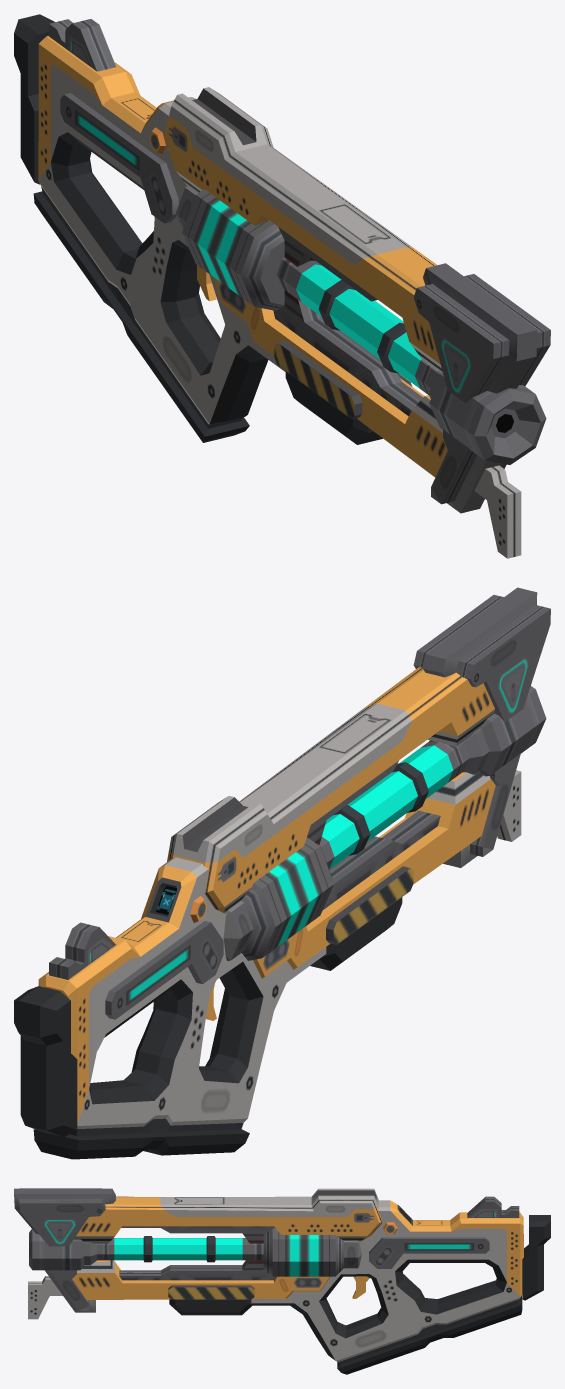
The model's file is SM_Wep_Rifle_01.fbx.
3 views of the same model, one above another, from view 1: azimuth 30°, elevation 25°; view 2: azimuth 150°, elevation 25°; view 3: azimuth 270°, elevation 25° (orthographic). The views are drawn at different scales.
Parts seen in each view (by area): view 1: SM_Wep_Rifle_01; view 2: SM_Wep_Rifle_01; view 3: SM_Wep_Rifle_01.
Part boxes in pixels (left/top/right/bottom): SM_Wep_Rifle_01: left=14, top=14, right=550, bottom=558; SM_Wep_Rifle_01: left=14, top=587, right=550, bottom=1159; SM_Wep_Rifle_01: left=14, top=1188, right=550, bottom=1374.
Bounding box in the file's own units: 10.04 × 34.11 × 92.56.
